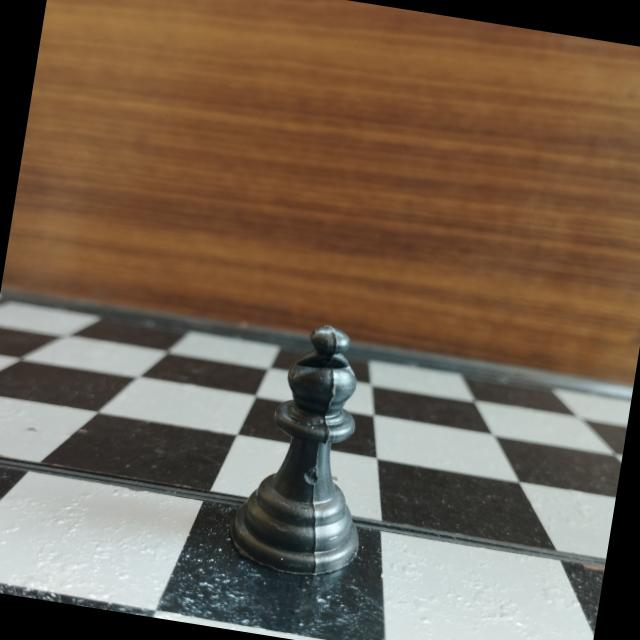Black Bishop: (218, 305, 406, 593)
